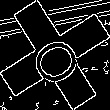O_NE: (22, 23, 88, 87)
